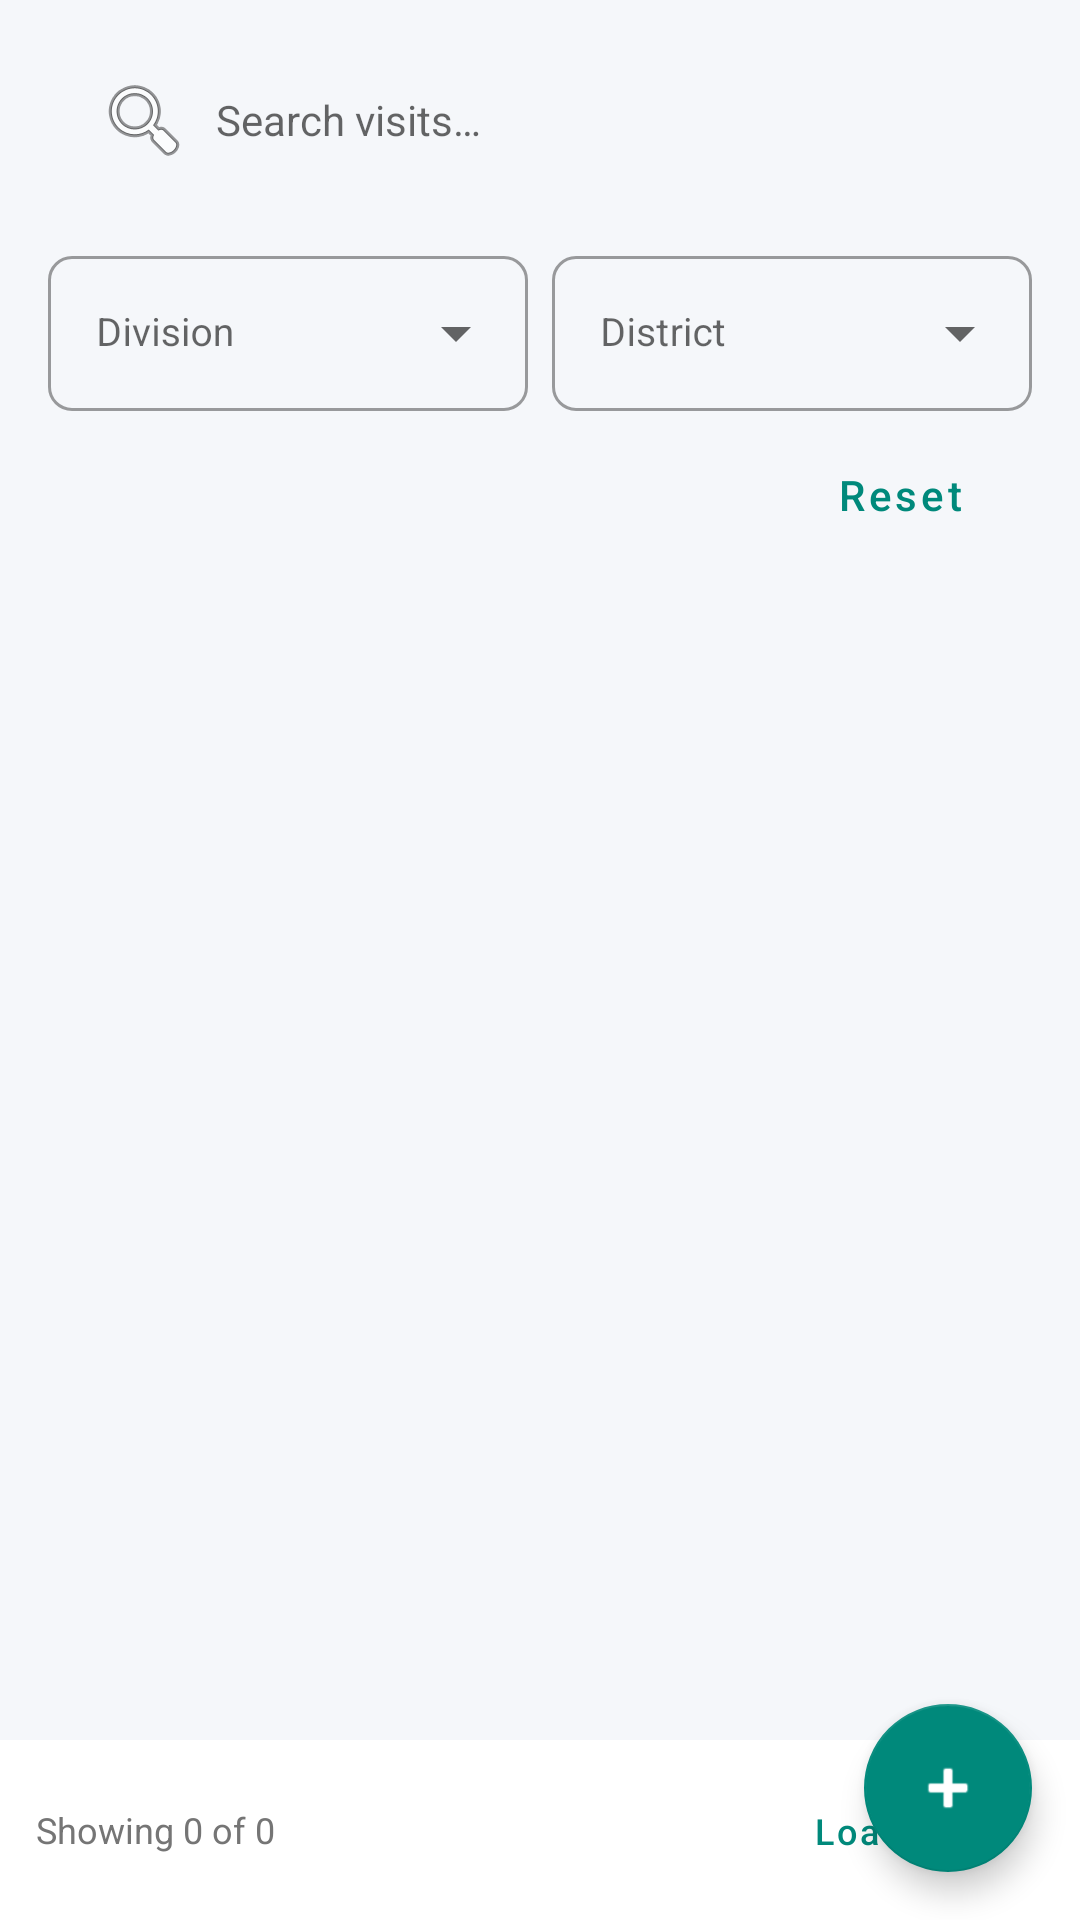

Where to tap for icons on this 1080px×1920px app screen, as [x,y]:
Add New: [948,1788]
